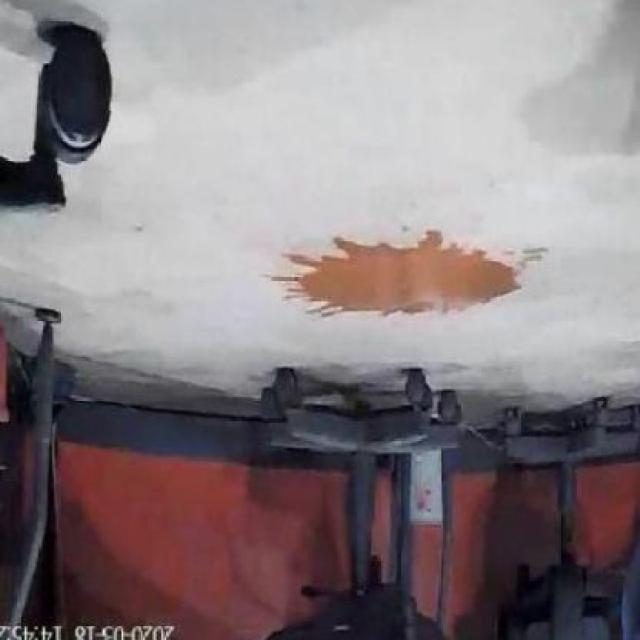spillage: (286, 229, 522, 315)
